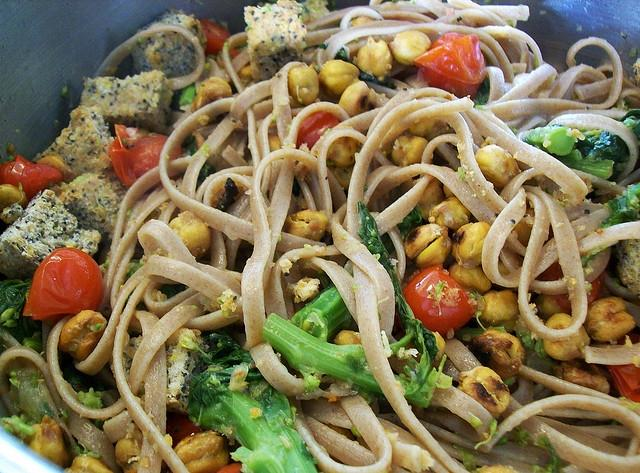broccoli: (185, 329, 318, 473), (262, 313, 452, 407), (524, 126, 628, 180), (291, 284, 352, 342), (614, 240, 640, 293)
tomato: (22, 247, 104, 321), (403, 264, 472, 337), (414, 30, 486, 98), (109, 124, 181, 188), (0, 154, 63, 204), (296, 111, 341, 151), (604, 363, 640, 403), (166, 414, 202, 448), (199, 19, 230, 56)
